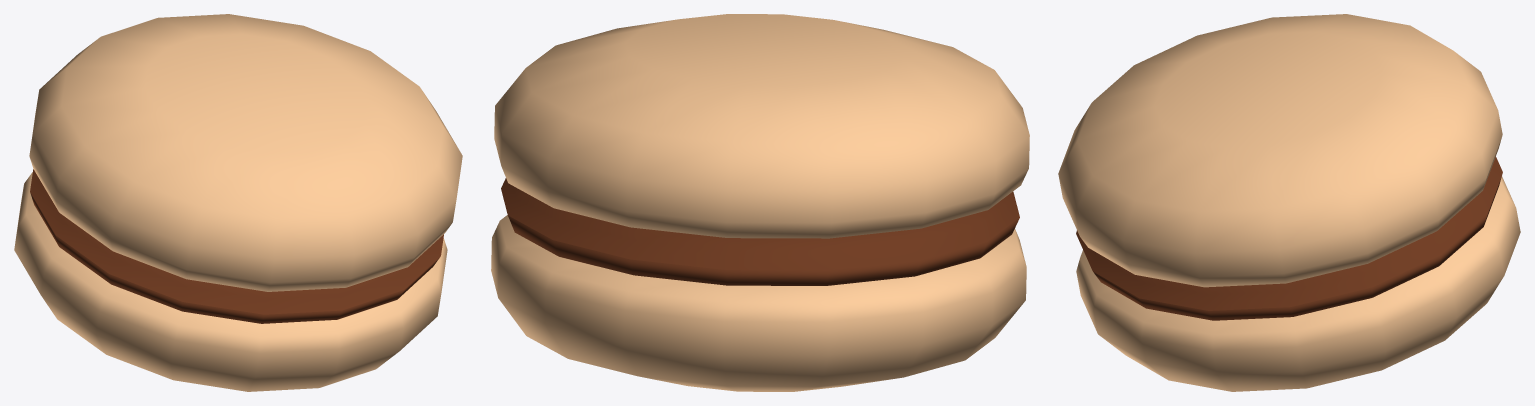
Rendered from SM_macaron_11.glb.
3 renders of one model, left to right at view 1: azimuth 30°, elevation 25°; view 2: azimuth 150°, elevation 25°; view 3: azimuth 270°, elevation 25°, orthographic. The views are drawn at different scales.
Visible parts, largest first — view 1: SM_macaron_11; view 2: SM_macaron_11; view 3: SM_macaron_11.
Part boxes in pixels (left/top/right/bottom): SM_macaron_11: left=14, top=14, right=462, bottom=391; SM_macaron_11: left=491, top=14, right=1029, bottom=391; SM_macaron_11: left=1058, top=14, right=1520, bottom=391.
Size of the model in its own units: 0.0923 by 0.0605 by 0.094.
1 material, 1 textured.
